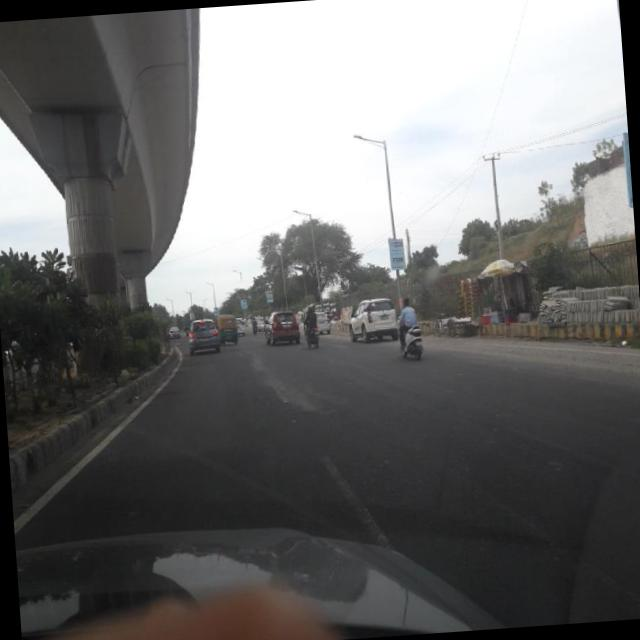crack: (460, 463, 632, 618), (232, 352, 339, 433)
